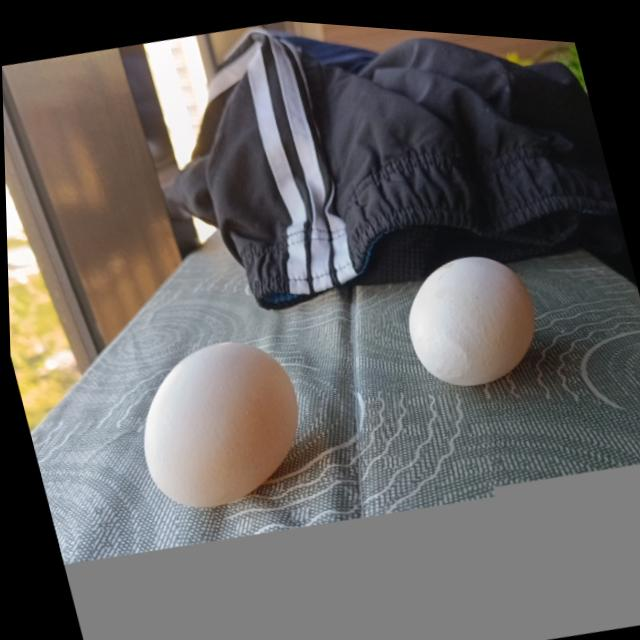egg: (114, 317, 316, 528), (391, 234, 547, 393)
